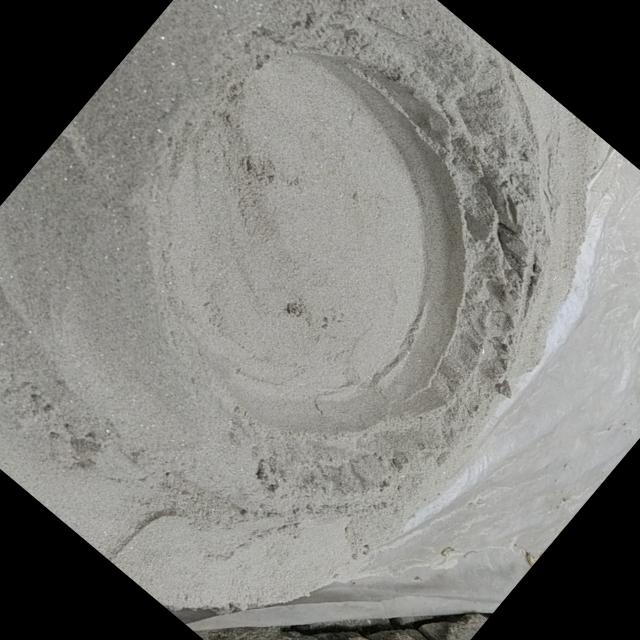C40: (164, 55, 465, 432)
